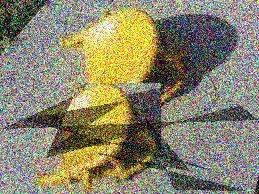chock: (57, 8, 190, 124), (33, 83, 161, 193)
